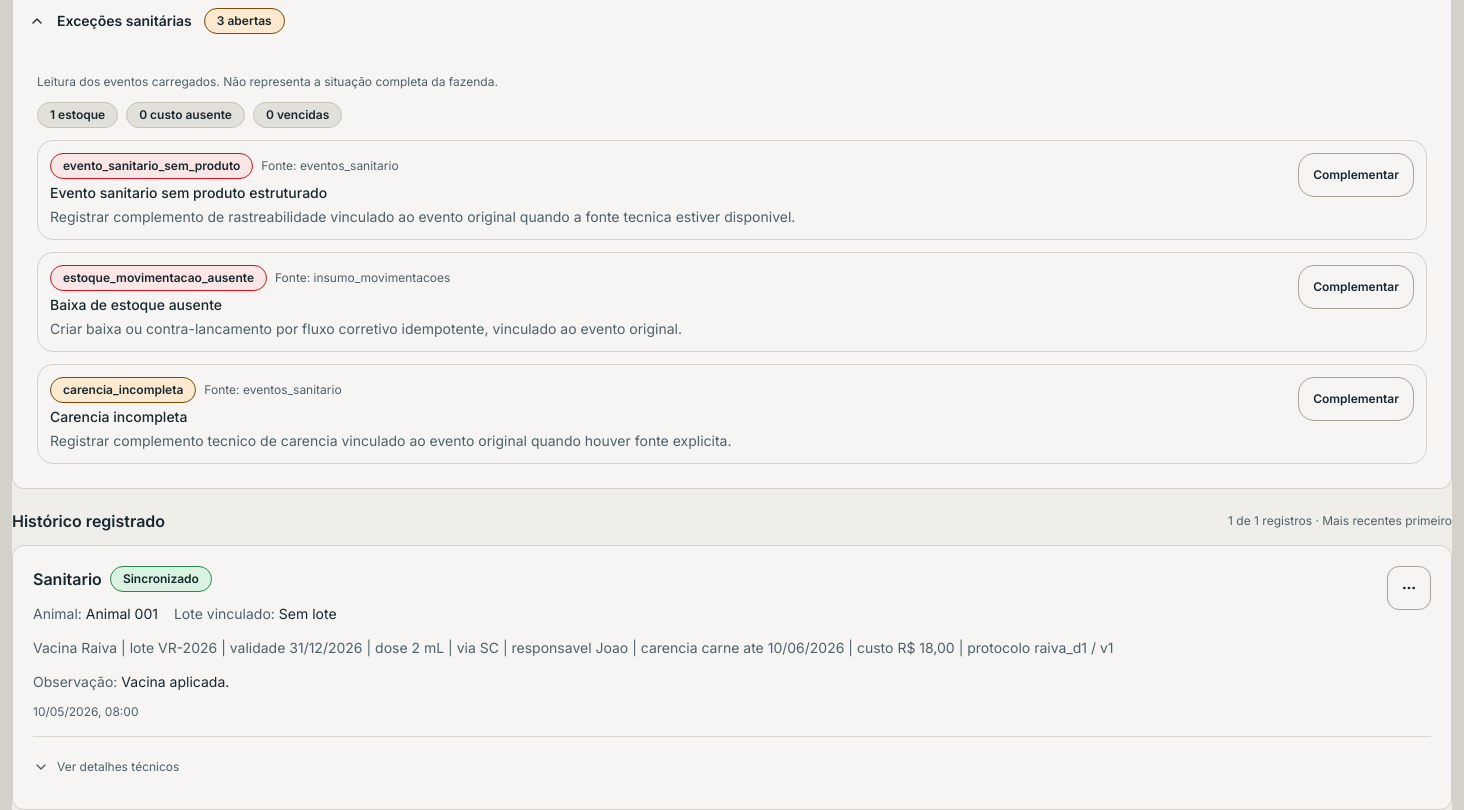
Test case: Eventos page › oferece baixa assistida de estoque para evento sanitario com produto catalogado
(page scrolled)
Click the button named "mais acoes para o evento evento-sanitario-1" at (1409, 588), box [1387,566,1431,610]
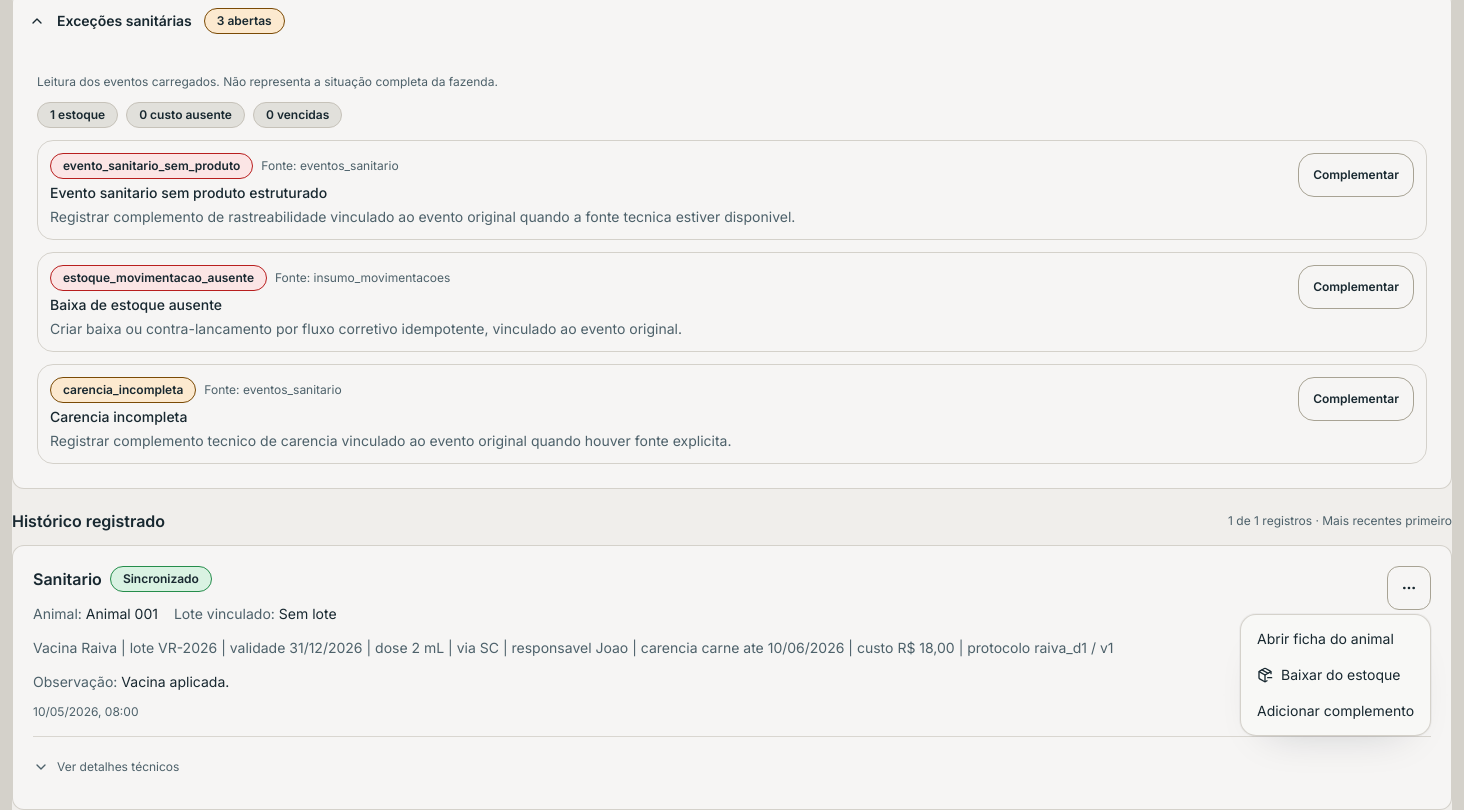
Expected: the text "protocolo raiva_d1 / v1" is shown, [33,639,1114,656]
Now the menu item "Baixar do estoque" is shown, box [1257,666,1400,683]
